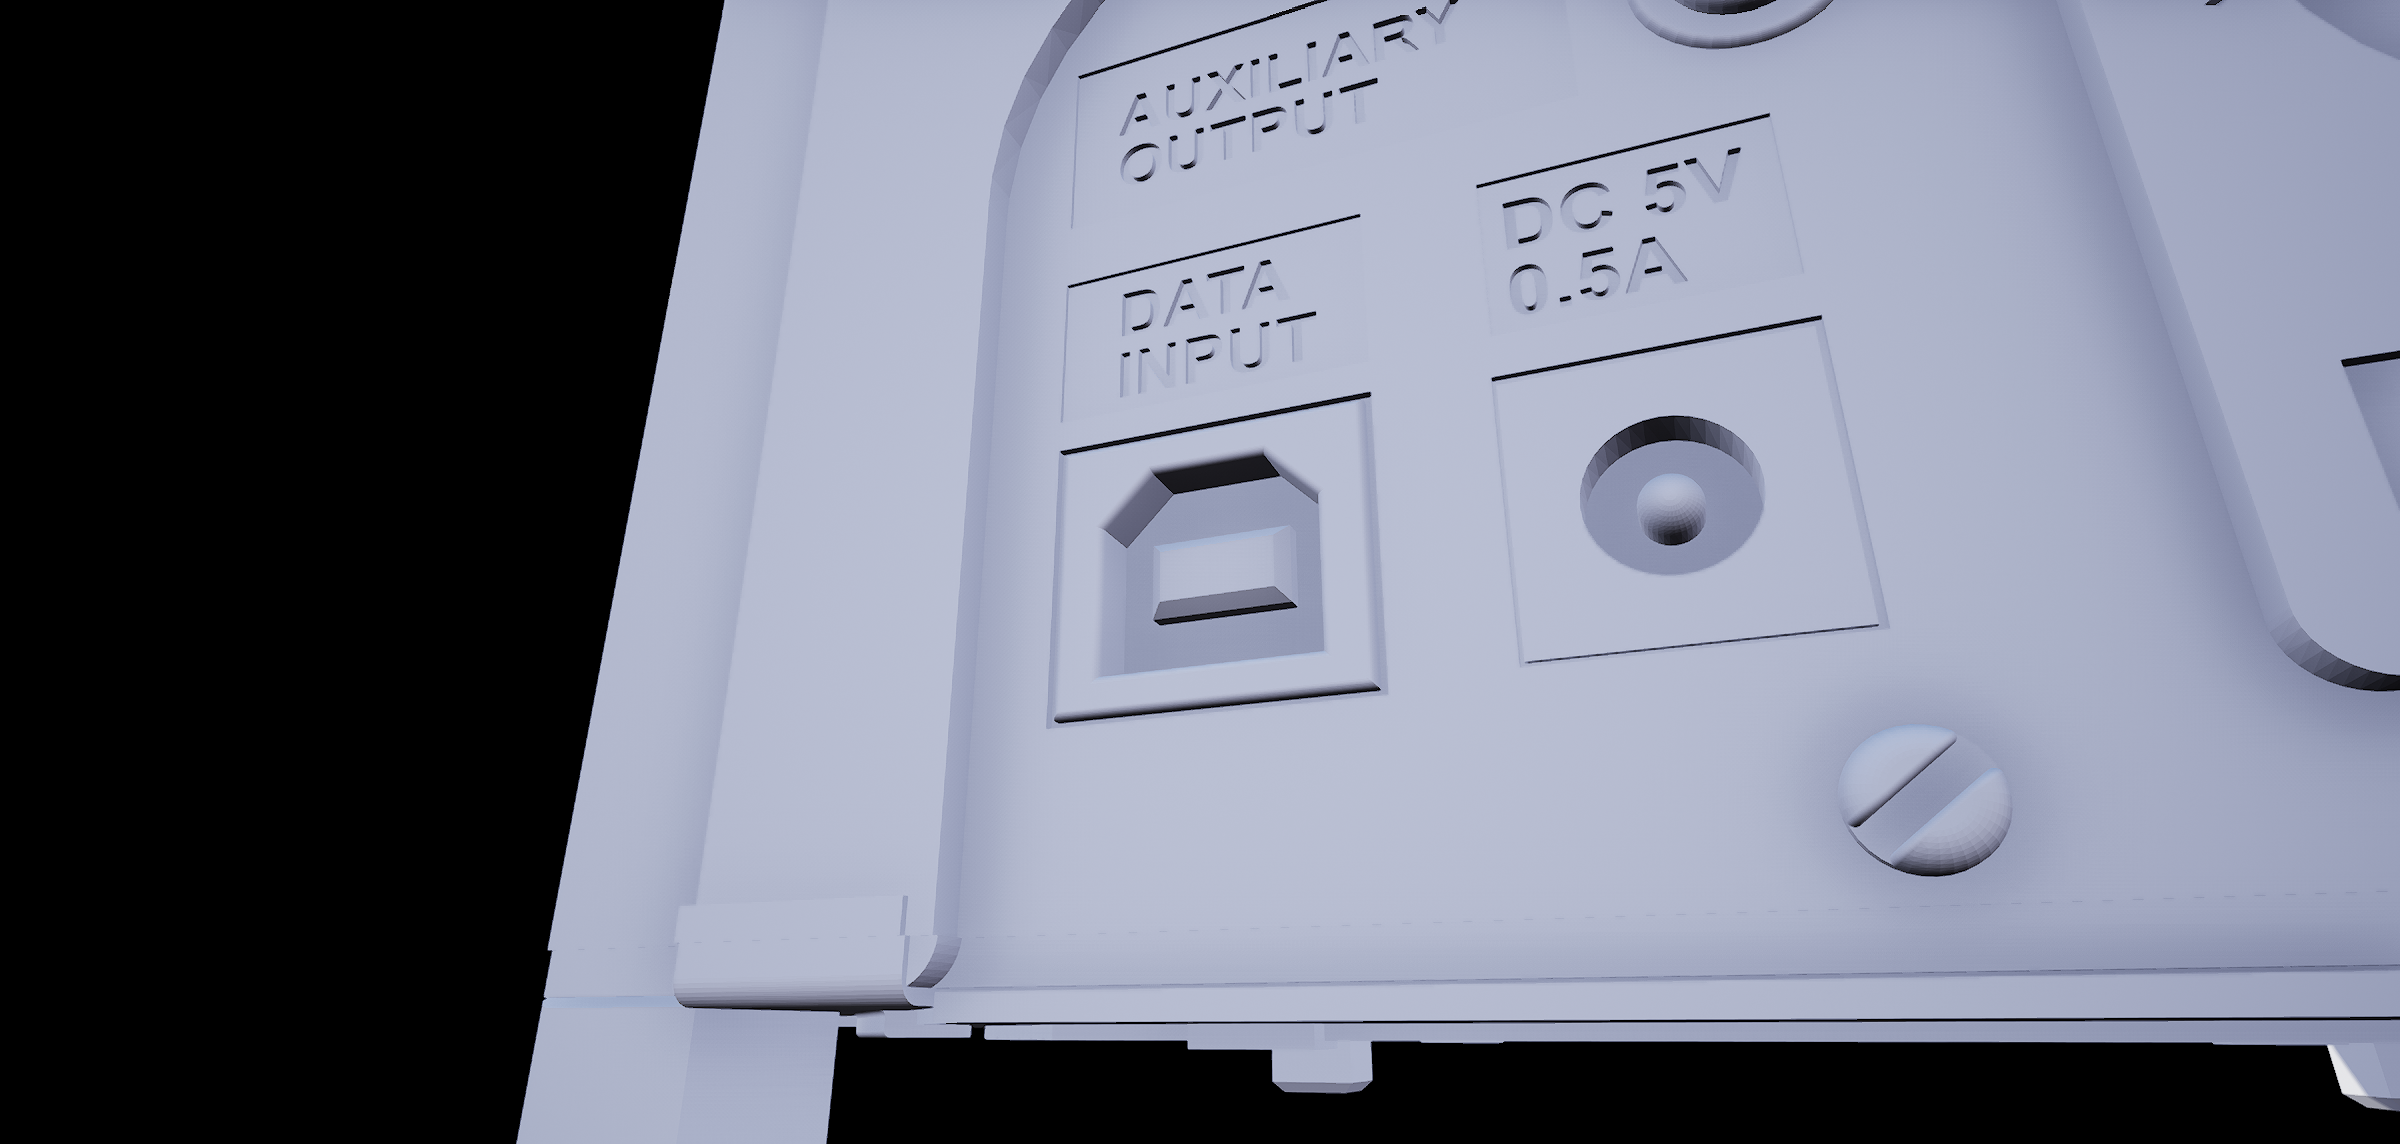dc: (1563, 406, 1808, 597)
usb: (1107, 461, 1362, 669)
